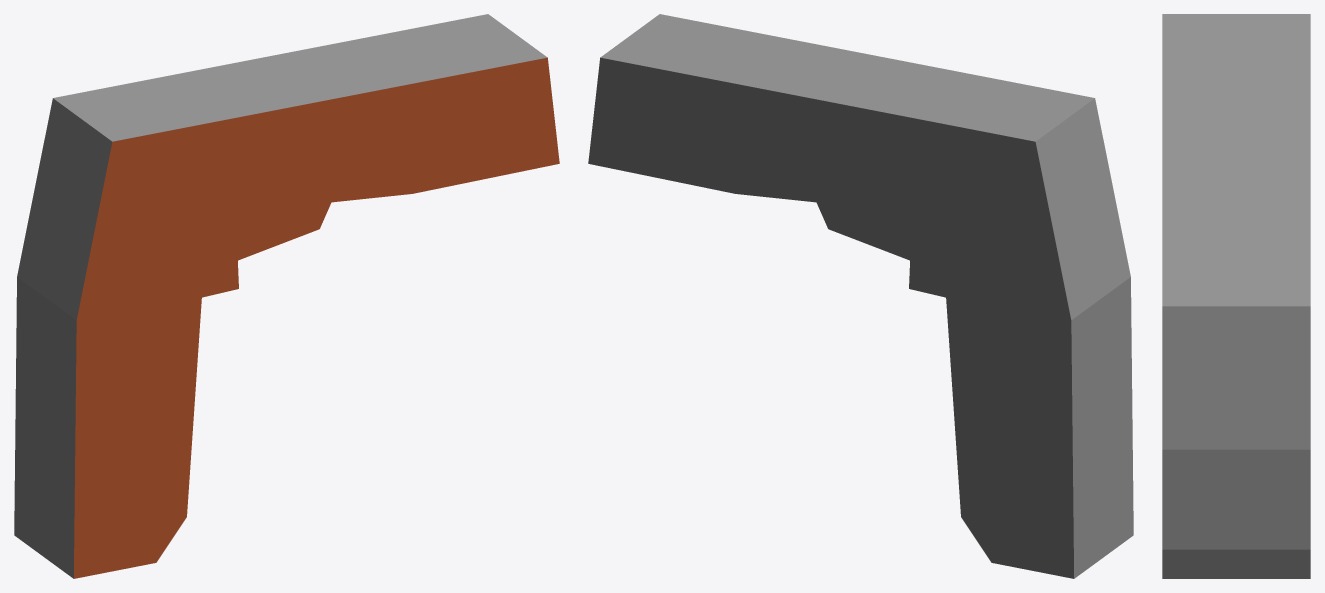
Rendered from construction_2102_assumed_A_Casa_h6m.obj.
3 views of the same model, side by side, from view 1: azimuth 30°, elevation 25°; view 2: azimuth 150°, elevation 25°; view 3: azimuth 270°, elevation 25° (orthographic). The views are drawn at different scales.
Visible parts, largest first — view 1: construction_2102_assumed_A_Casa; view 2: construction_2102_assumed_A_Casa; view 3: construction_2102_assumed_A_Casa.
Part boxes in pixels (<box>): construction_2102_assumed_A_Casa: <box>14,14,559,578</box>; construction_2102_assumed_A_Casa: <box>588,14,1133,578</box>; construction_2102_assumed_A_Casa: <box>1162,14,1310,578</box>.
Bounding box in the file's own units: 28.25 × 23.99 × 6.
